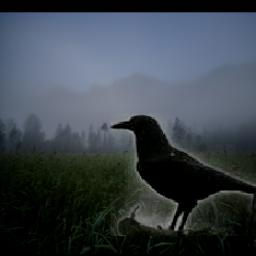Crow: (112, 113, 256, 236)
